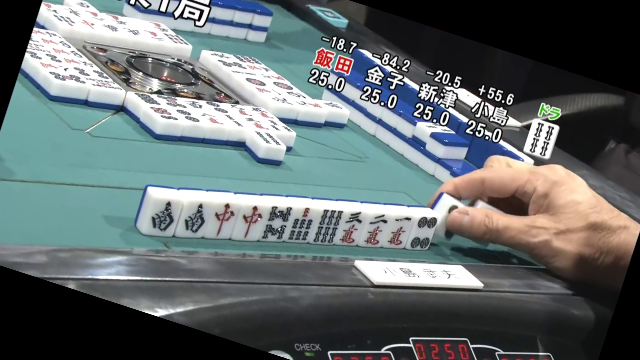Tehai: (137, 186, 442, 252)
